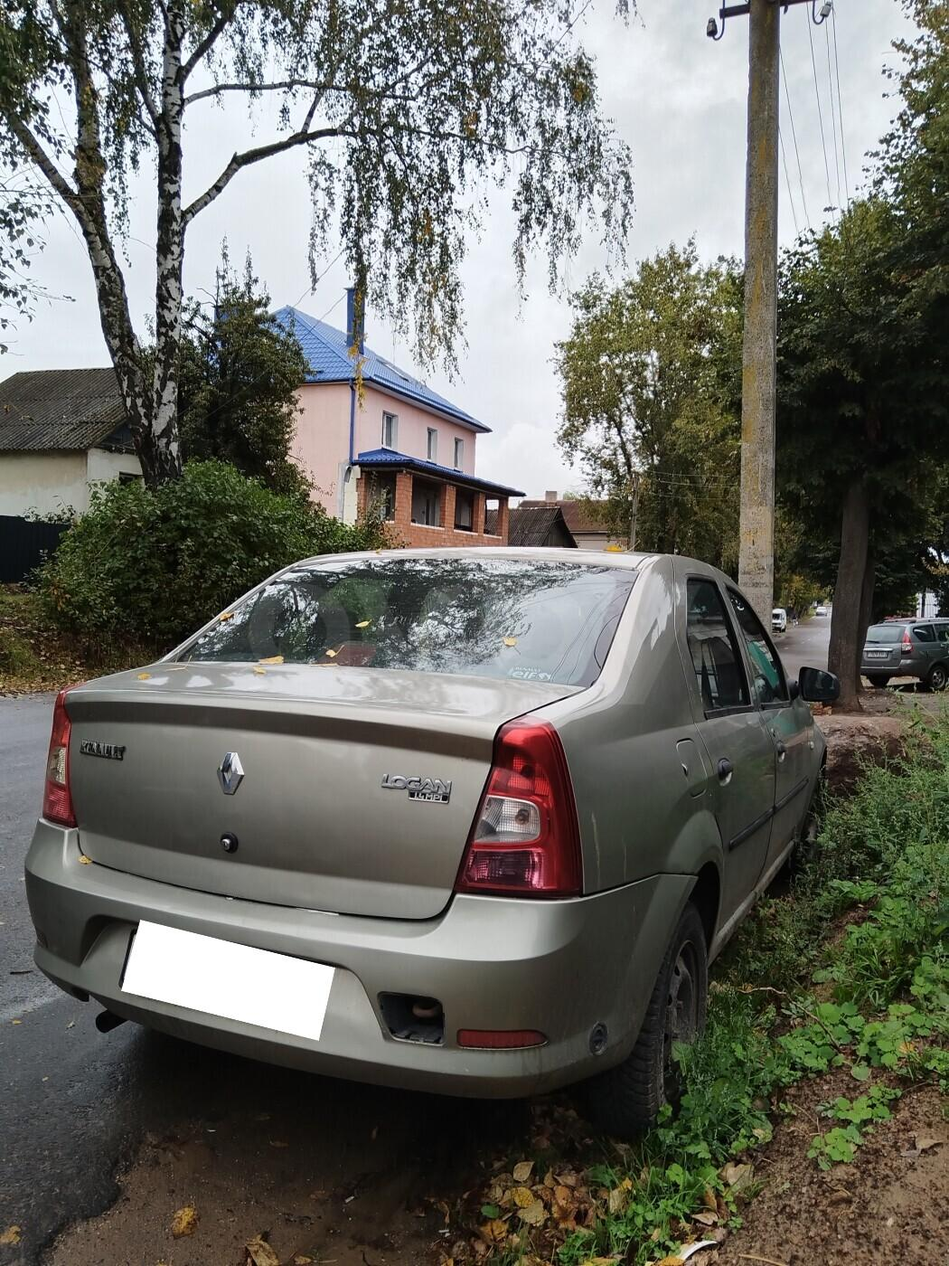Logan_2008-2015: (23, 535, 842, 1125)
